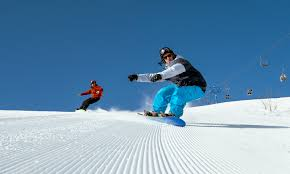snowboarder: (128, 47, 207, 127), (74, 80, 104, 113)
